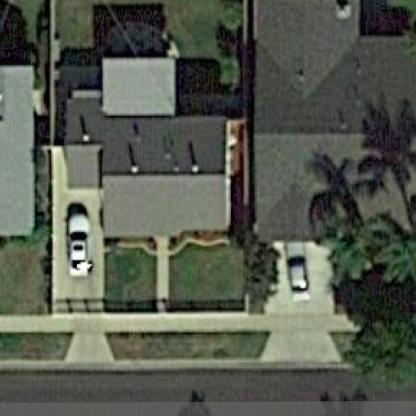car: (64, 196, 101, 283), (278, 231, 318, 303)
